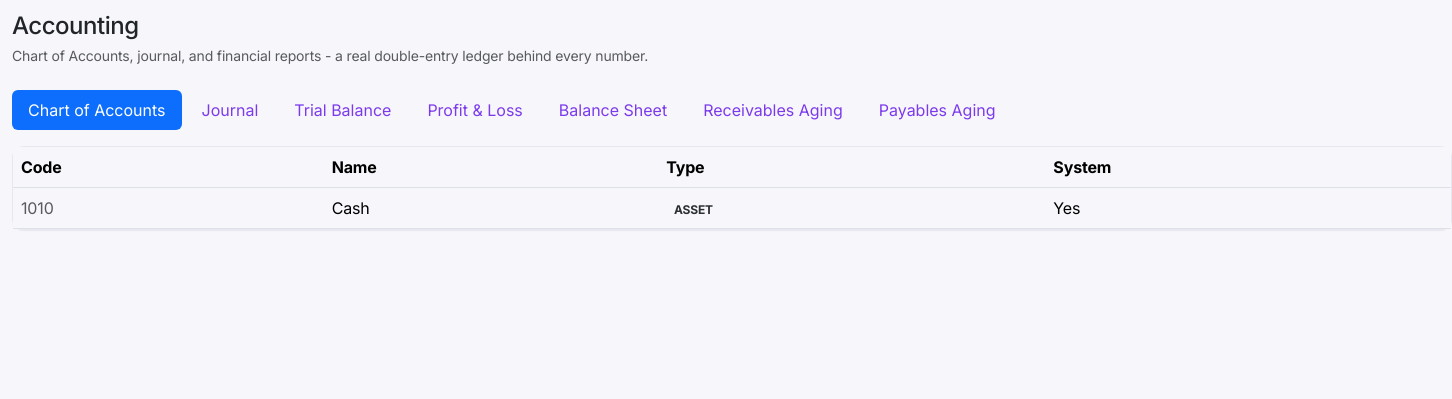
Test: switching tabs after the Chart of Accounts has loaded (the real user sequence) › Balance Sheet: no render exception, and it shows its own content once its response arrives
The width and height of the screenshot is (1452, 399).
Expected: the text "Cash" is shown, [324,187,658,228]
Click the button "Balance Sheet".
click(613, 110)  # box [543,90,683,130]
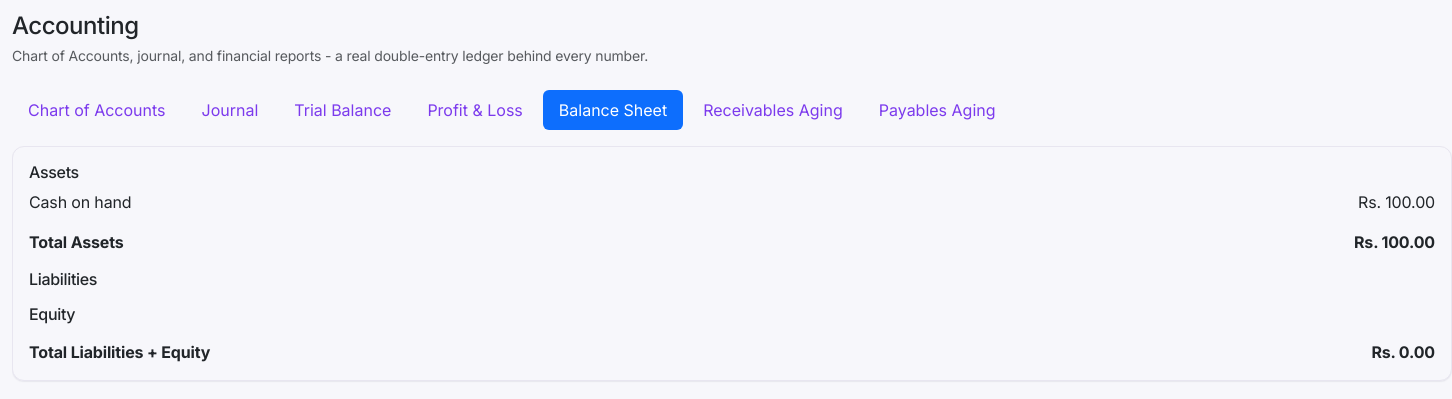
Expected: the text "Cash on hand" is shown, [29,190,131,214]
